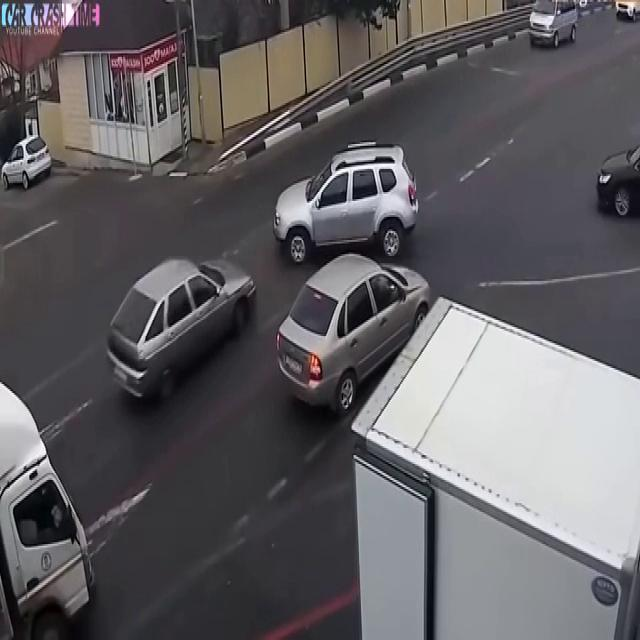normal: (0, 354, 153, 640), (262, 258, 456, 433), (67, 237, 278, 397), (261, 134, 413, 304)
